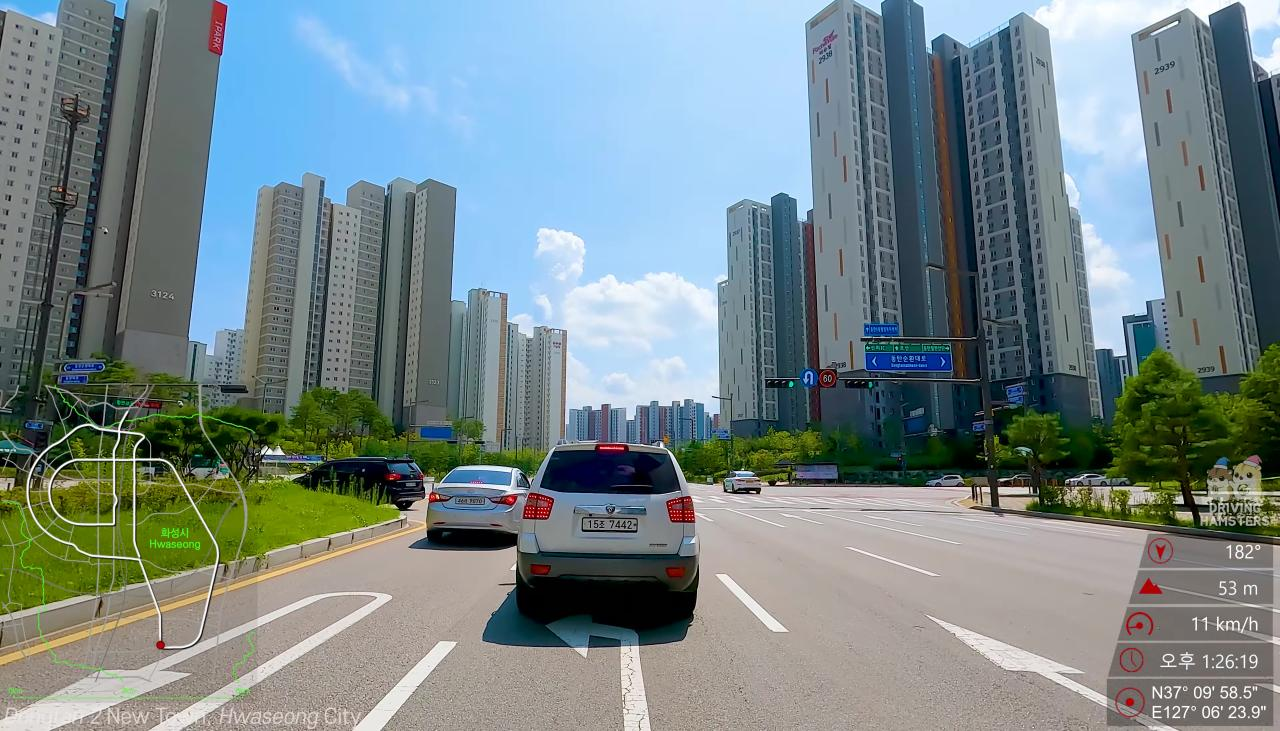Green Light: (788, 380, 794, 388), (868, 381, 873, 388)
